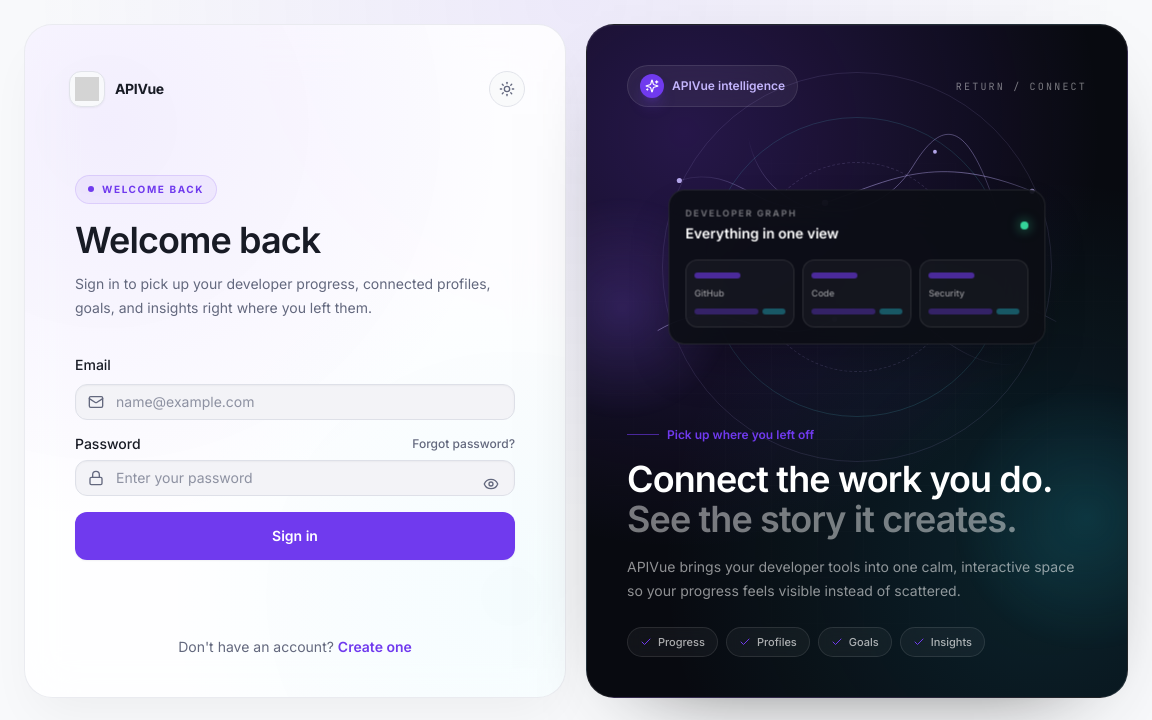
Test: LoginPage validation › clears the error once the address becomes valid
Type "bad" into the field labelled "Email" at {"x": 295, "y": 402}, box [75,384,515,420]
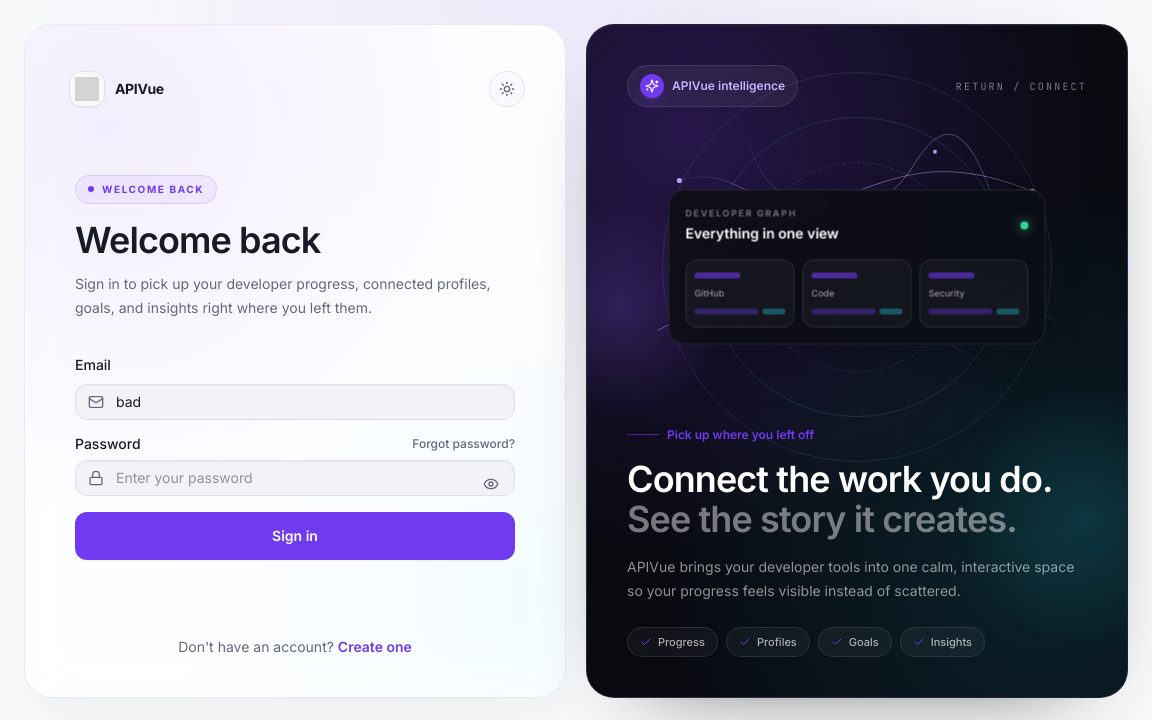
Leave the field labelled "Email", box [75,384,515,420]
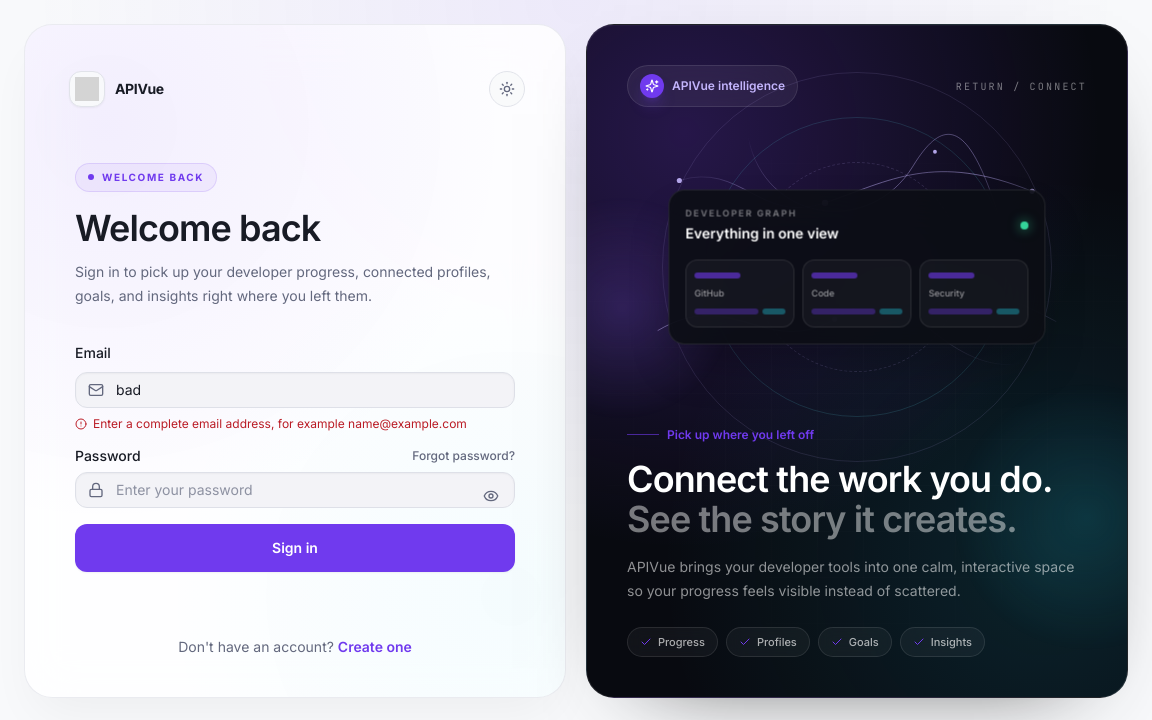
Now the text "Enter a complete email address, for example name@example.com" is shown, box [75,416,515,432]
Replace the text in the field labelled "Email" with "dev@example.com" at {"x": 295, "y": 390}, box [75,372,515,408]
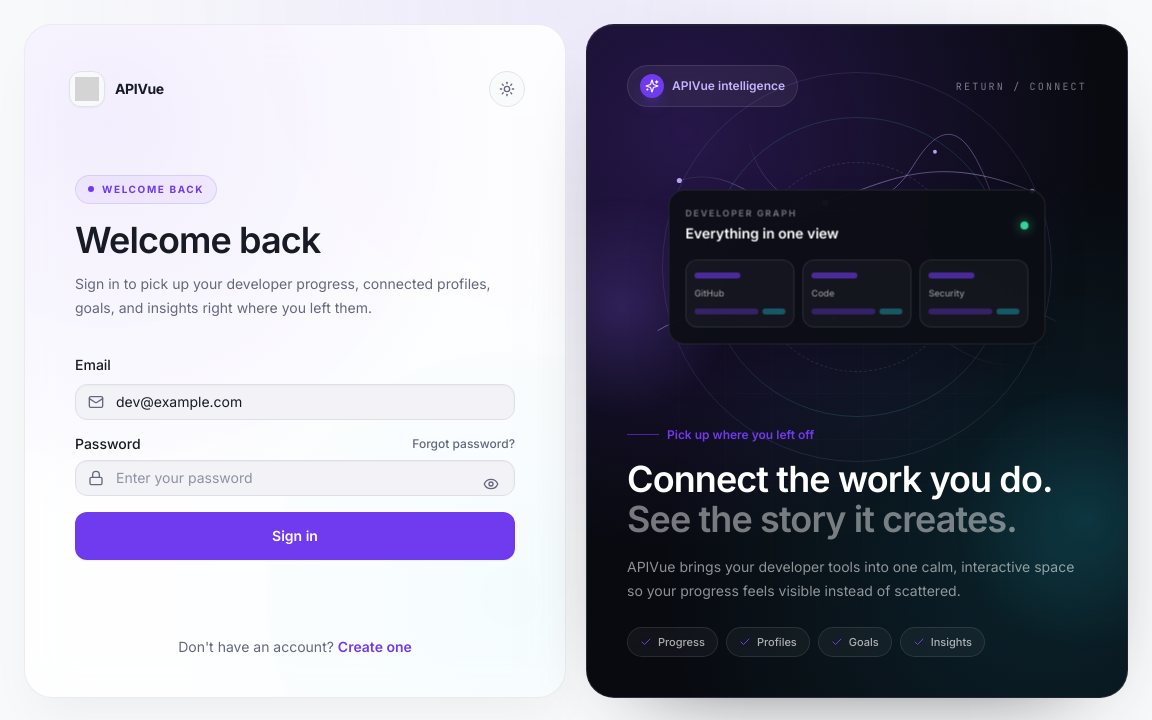
Now the text "complete email address" is gone
